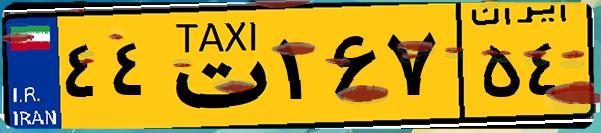1: (270, 28, 330, 110)
4: (57, 26, 110, 100), (525, 38, 570, 115), (110, 28, 158, 98)
5: (475, 38, 525, 113)
6: (330, 28, 385, 110)
7: (385, 28, 445, 110)
ت: (158, 12, 270, 120)
